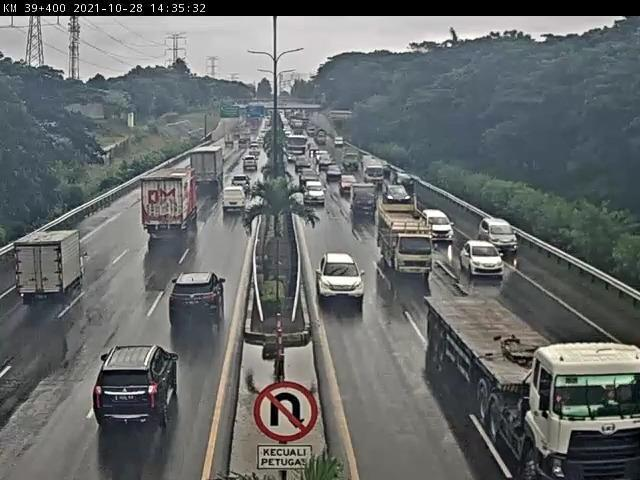car: (96, 348, 178, 431), (169, 274, 227, 330), (321, 257, 366, 301), (455, 236, 496, 271), (471, 214, 508, 249), (416, 206, 448, 236), (347, 179, 372, 207), (223, 190, 248, 213), (390, 169, 414, 191), (382, 184, 408, 203), (230, 177, 253, 197), (306, 184, 326, 203), (340, 173, 355, 193), (243, 158, 260, 173), (294, 157, 310, 170), (299, 167, 315, 180), (321, 152, 334, 166), (325, 163, 338, 177)
truck: (420, 285, 631, 474), (14, 232, 85, 299), (142, 170, 201, 234), (375, 204, 428, 270), (192, 149, 227, 190), (366, 158, 390, 184), (286, 136, 308, 163), (342, 154, 357, 169)
